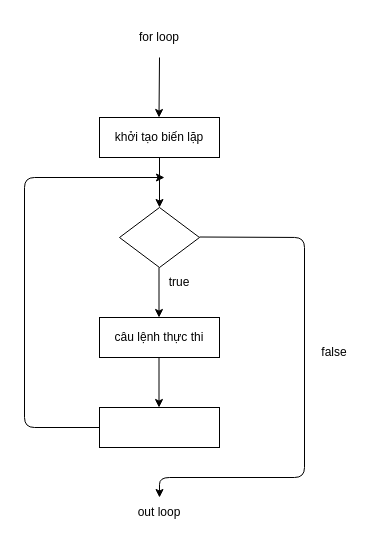
Some shapes in this 382 by 544 pixel diagram are drawn without their labels. The centre of each missing label's shape, as x and y in pixels:
cập nhật biến lặp: the point at 159,427
điều kiện: the point at 159,237
